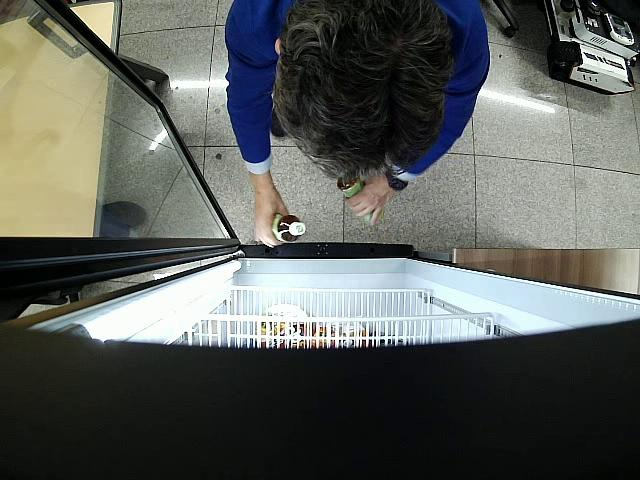00_hand: (251, 176, 289, 248), (346, 173, 391, 228)
19_17cha: (337, 177, 375, 222), (272, 214, 306, 243)
